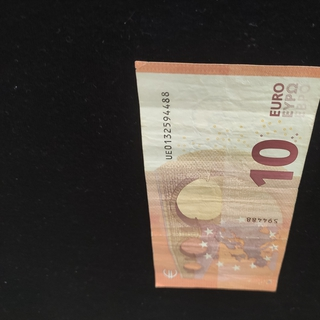10EUROBack: (133, 59, 320, 292)
